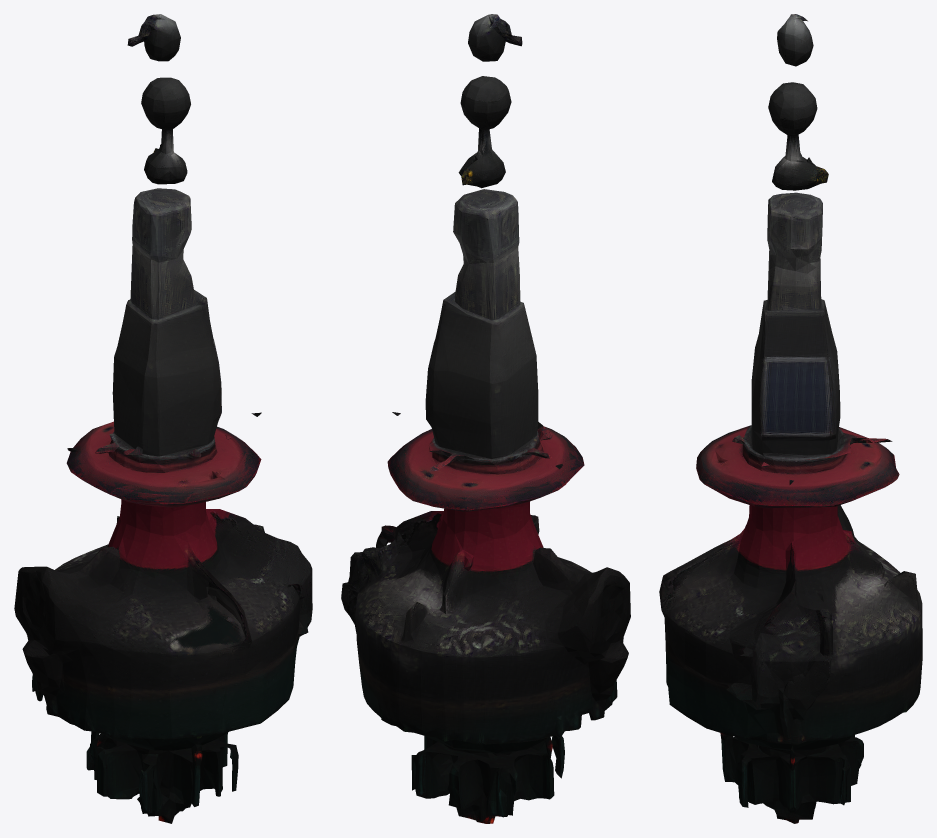
Rendered from danger_mark17.glb.
3 renders of one model, left to right at view 1: azimuth 30°, elevation 25°; view 2: azimuth 150°, elevation 25°; view 3: azimuth 270°, elevation 25°, orthographic.
Parts seen in each view (by area): view 1: world; view 2: world; view 3: world.
Boxes of the visible parts, box(x1,y1,x2,y2) form: world: box(14, 14, 312, 823); world: box(341, 14, 630, 823); world: box(659, 14, 922, 823).
Size of the model in its own units: 0.347 by 0.9892 by 0.2943.
1 material, 1 textured.
